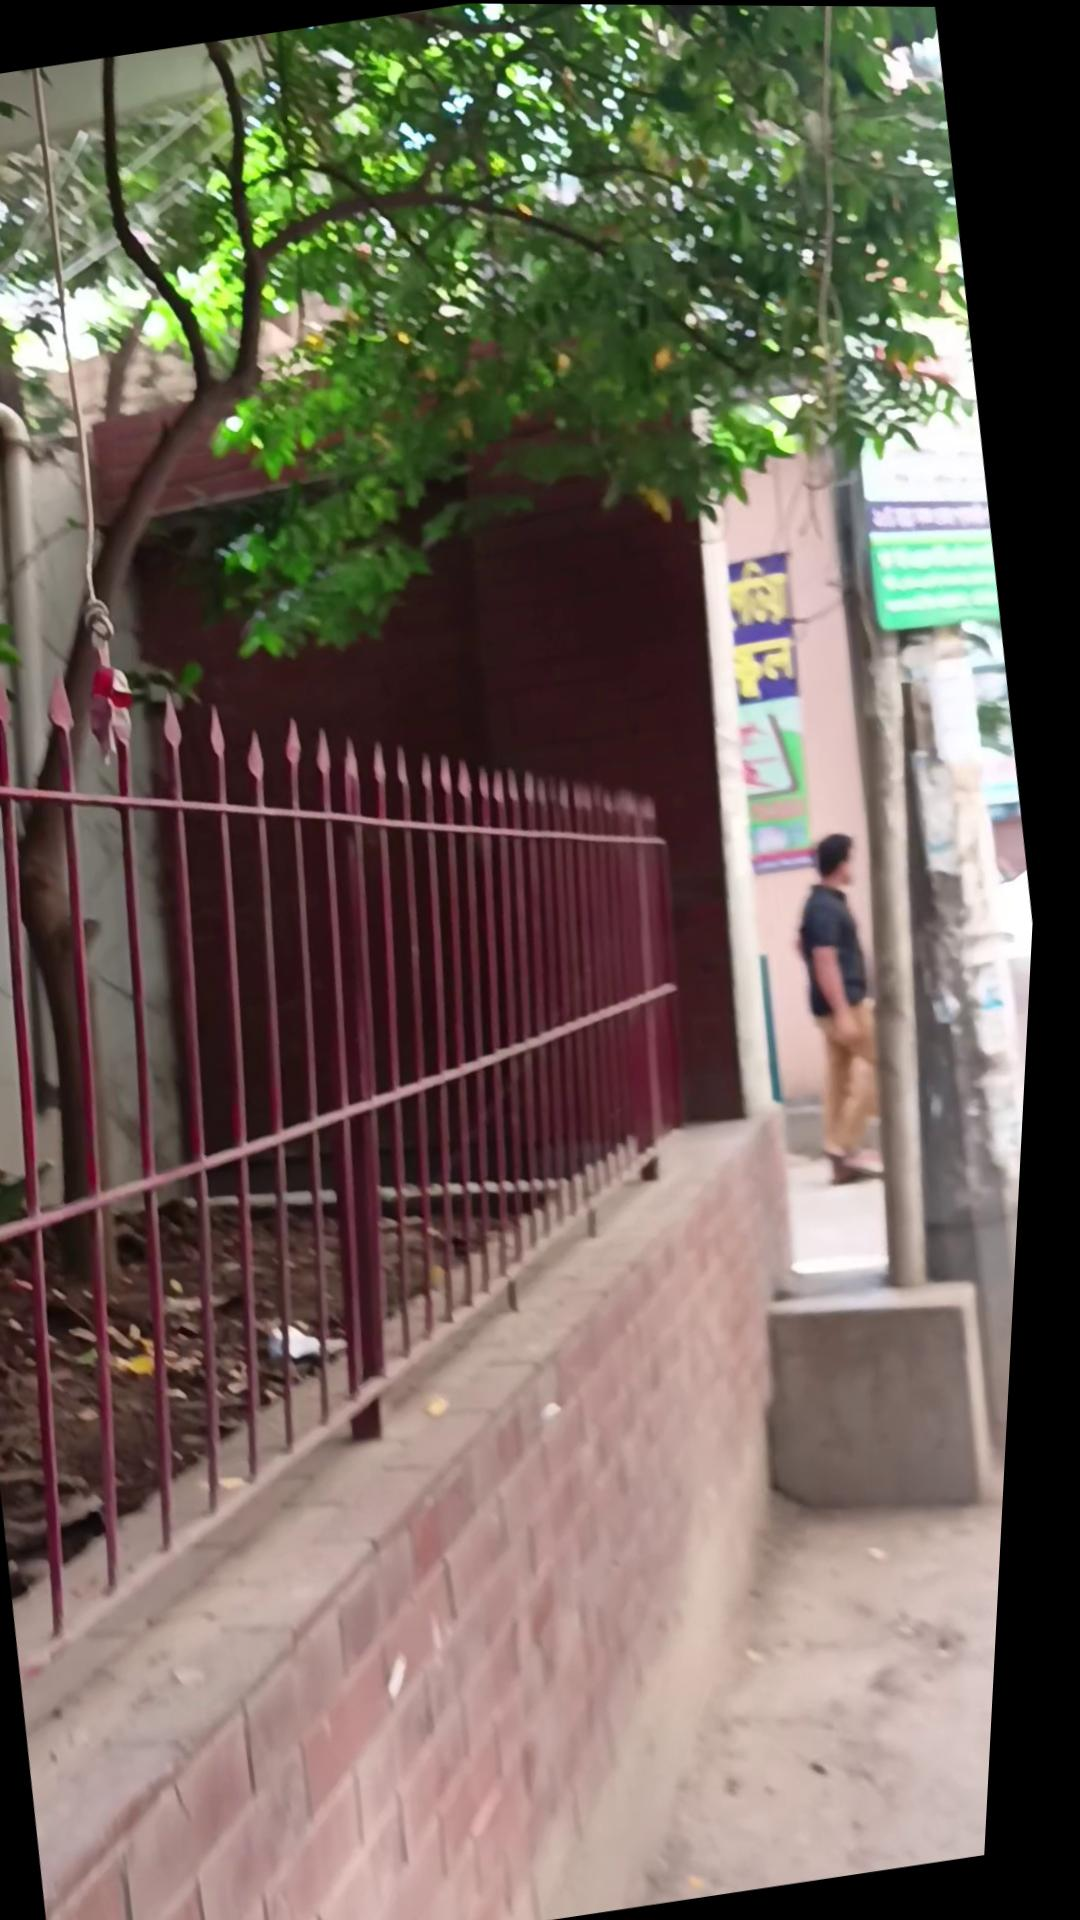Motorcycle: (754, 1261, 1025, 1534)
Muddy road: (779, 825, 922, 1187)
Tree: (0, 1091, 915, 1920)
